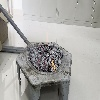fire: (46, 26, 50, 46), (52, 61, 55, 71)
